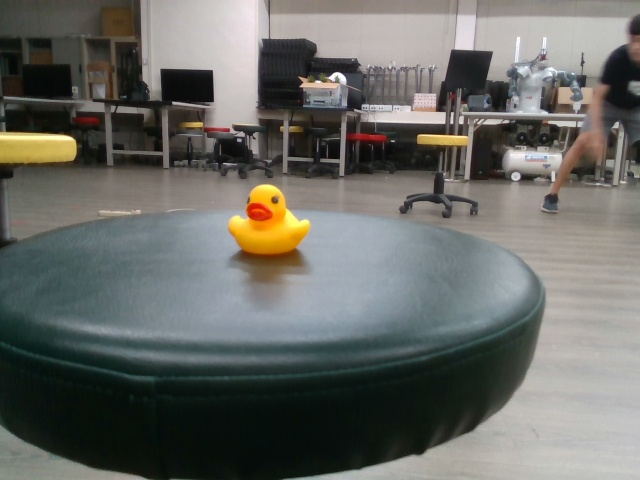duck: (225, 182, 315, 256)
